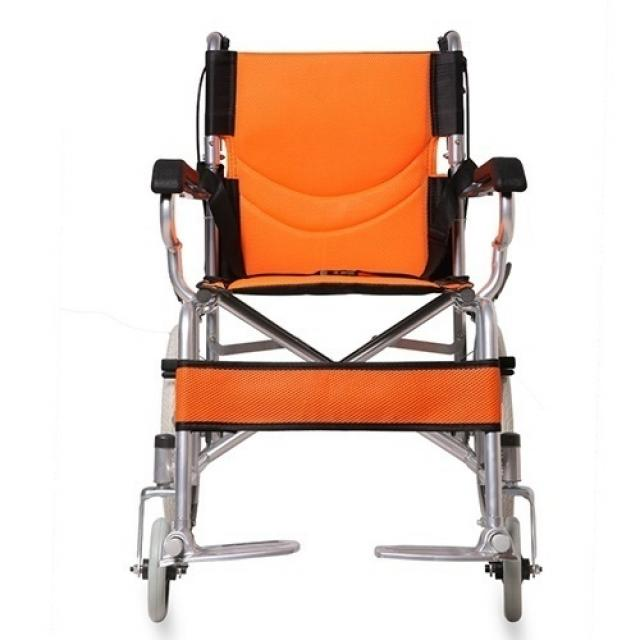wheelchair: (115, 19, 554, 640)
